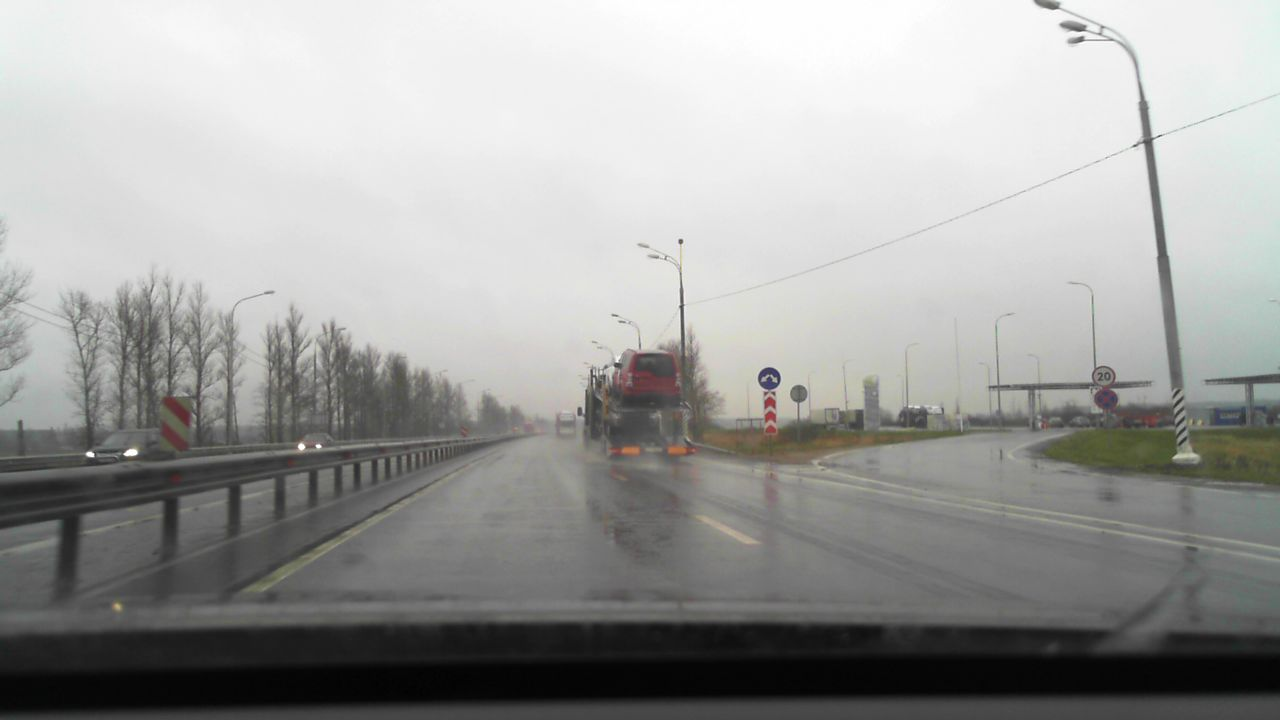No Parking: (1095, 389, 1118, 409)
